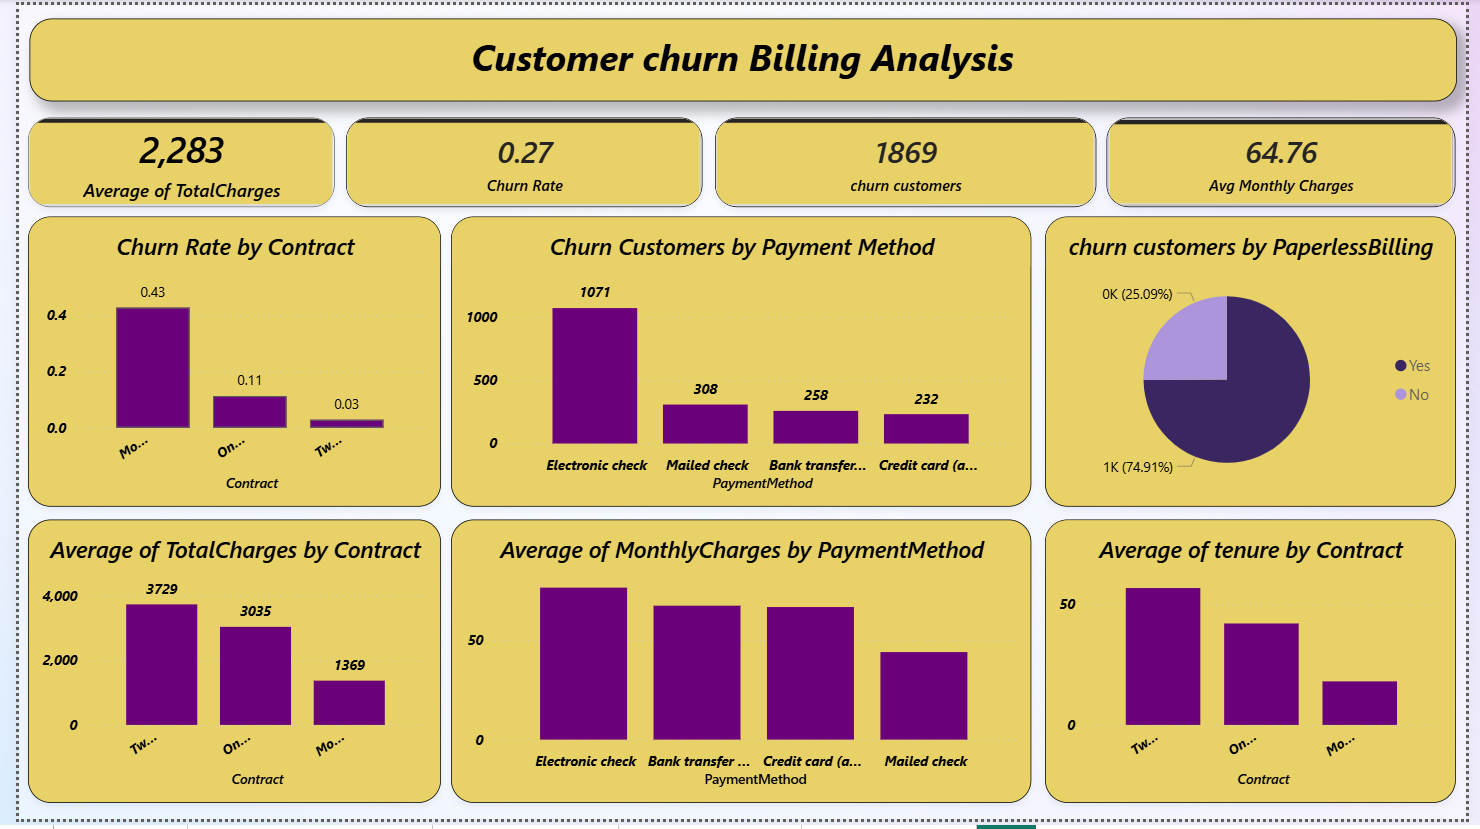

The dashboard page shown, as its layout file describes it:
{"tool":"powerbi","page":{"name":"Billing Analysis","canvas":[1280,720],"ordinal":3},"visuals":[{"type":"clusteredColumnChart","fields":{"Category":["WA_Fn-UseC_-Telco-Customer-Churn.Contract"],"Y":["WA_Fn-UseC_-Telco-Customer-Churn.Churn Rate"]},"box":[8.6,187.1,365.6,256.8],"z":0},{"type":"clusteredColumnChart","title":"Churn Customers by Payment Method","fields":{"Category":["WA_Fn-UseC_-Telco-Customer-Churn.PaymentMethod"],"Y":["WA_Fn-UseC_-Telco-Customer-Churn.churn customers"]},"box":[382.7,187.1,513.6,256.8],"z":1000},{"type":"clusteredColumnChart","fields":{"Category":["WA_Fn-UseC_-Telco-Customer-Churn.Contract"],"Y":["Avg(WA_Fn-UseC_-Telco-Customer-Churn.TotalCharges)"]},"box":[8.6,454.9,365.6,250.7],"z":2000},{"type":"clusteredColumnChart","fields":{"Category":["WA_Fn-UseC_-Telco-Customer-Churn.PaymentMethod"],"Y":["Avg(WA_Fn-UseC_-Telco-Customer-Churn.MonthlyCharges)"]},"box":[382.7,454.9,513.6,250.7],"z":3000},{"type":"clusteredColumnChart","fields":{"Category":["WA_Fn-UseC_-Telco-Customer-Churn.PaperlessBilling"],"Y":["WA_Fn-UseC_-Telco-Customer-Churn.churn customers"]},"box":[907.3,187.1,363.2,256.8],"z":4000},{"type":"columnChart","fields":{"Category":["WA_Fn-UseC_-Telco-Customer-Churn.Contract"],"Y":["Avg(WA_Fn-UseC_-Telco-Customer-Churn.tenure)"]},"box":[907.3,454.9,363.2,250.7],"z":5000},{"type":"cardVisual","fields":{"Data":["WA_Fn-UseC_-Telco-Customer-Churn.Avg Monthly Charges"]},"box":[962.3,99.6,308.8,79.4],"z":6000},{"type":"cardVisual","fields":{"Data":["Avg(WA_Fn-UseC_-Telco-Customer-Churn.TotalCharges)"]},"box":[8.6,99,271.5,79.5],"z":7000},{"type":"cardVisual","fields":{"Data":["WA_Fn-UseC_-Telco-Customer-Churn.Churn Rate"]},"box":[288.6,99,315.5,79.5],"z":8000},{"type":"cardVisual","fields":{"Data":["WA_Fn-UseC_-Telco-Customer-Churn.churn customers"]},"box":[615.1,99,337.5,79.5],"z":9000},{"type":"textbox","box":[8.7,11.5,1262.4,73.6],"z":10000}]}

Visuals, with their boxes in screenshot pixels (x1, y1, x2, y2), scaled from the page's 1280x720 canvas onto the 1480x829 screenshot:
clusteredColumnChart - WA_Fn-UseC_-Telco-Customer-Churn.Contract x WA_Fn-UseC_-Telco-Customer-Churn.Churn Rate: crop(10, 215, 433, 511)
"Churn Customers by Payment Method" clusteredColumnChart: crop(442, 215, 1036, 511)
clusteredColumnChart - WA_Fn-UseC_-Telco-Customer-Churn.Contract x Avg(WA_Fn-UseC_-Telco-Customer-Churn.TotalCharges): crop(10, 524, 433, 812)
clusteredColumnChart - WA_Fn-UseC_-Telco-Customer-Churn.PaymentMethod x Avg(WA_Fn-UseC_-Telco-Customer-Churn.MonthlyCharges): crop(442, 524, 1036, 812)
clusteredColumnChart - WA_Fn-UseC_-Telco-Customer-Churn.PaperlessBilling x WA_Fn-UseC_-Telco-Customer-Churn.churn customers: crop(1049, 215, 1469, 511)
columnChart - WA_Fn-UseC_-Telco-Customer-Churn.Contract x Avg(WA_Fn-UseC_-Telco-Customer-Churn.tenure): crop(1049, 524, 1469, 812)
cardVisual - WA_Fn-UseC_-Telco-Customer-Churn.Avg Monthly Charges: crop(1113, 115, 1470, 206)
cardVisual - Avg(WA_Fn-UseC_-Telco-Customer-Churn.TotalCharges): crop(10, 114, 324, 206)
cardVisual - WA_Fn-UseC_-Telco-Customer-Churn.Churn Rate: crop(334, 114, 698, 206)
cardVisual - WA_Fn-UseC_-Telco-Customer-Churn.churn customers: crop(711, 114, 1101, 206)
textbox: crop(10, 13, 1470, 98)
